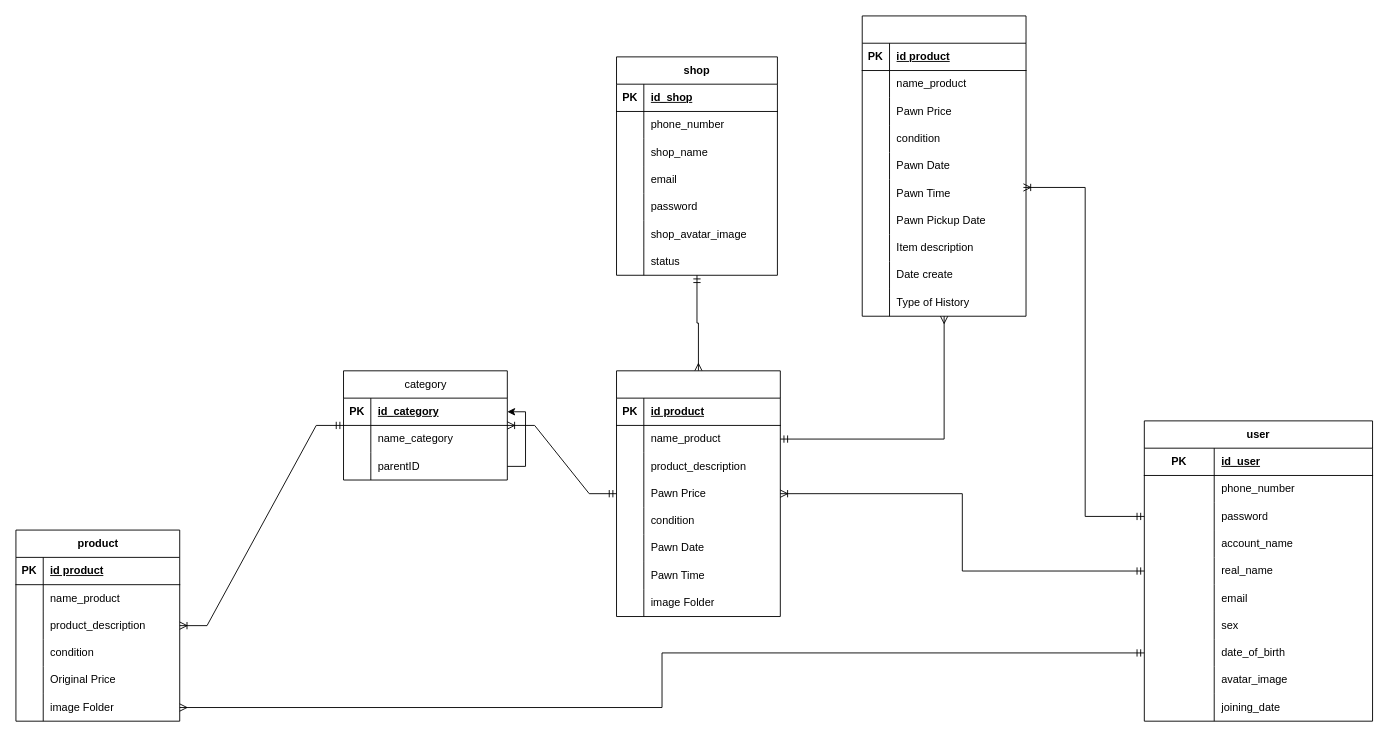
Some shapes in this 1389 by 737 pixel diagram are drawn without their labels. The box of each missing label's shape, as (x1, y1, x2, y2) in pixels:
Pawn_History: (861, 15, 1026, 316)
Pawn_Item: (616, 370, 780, 617)
